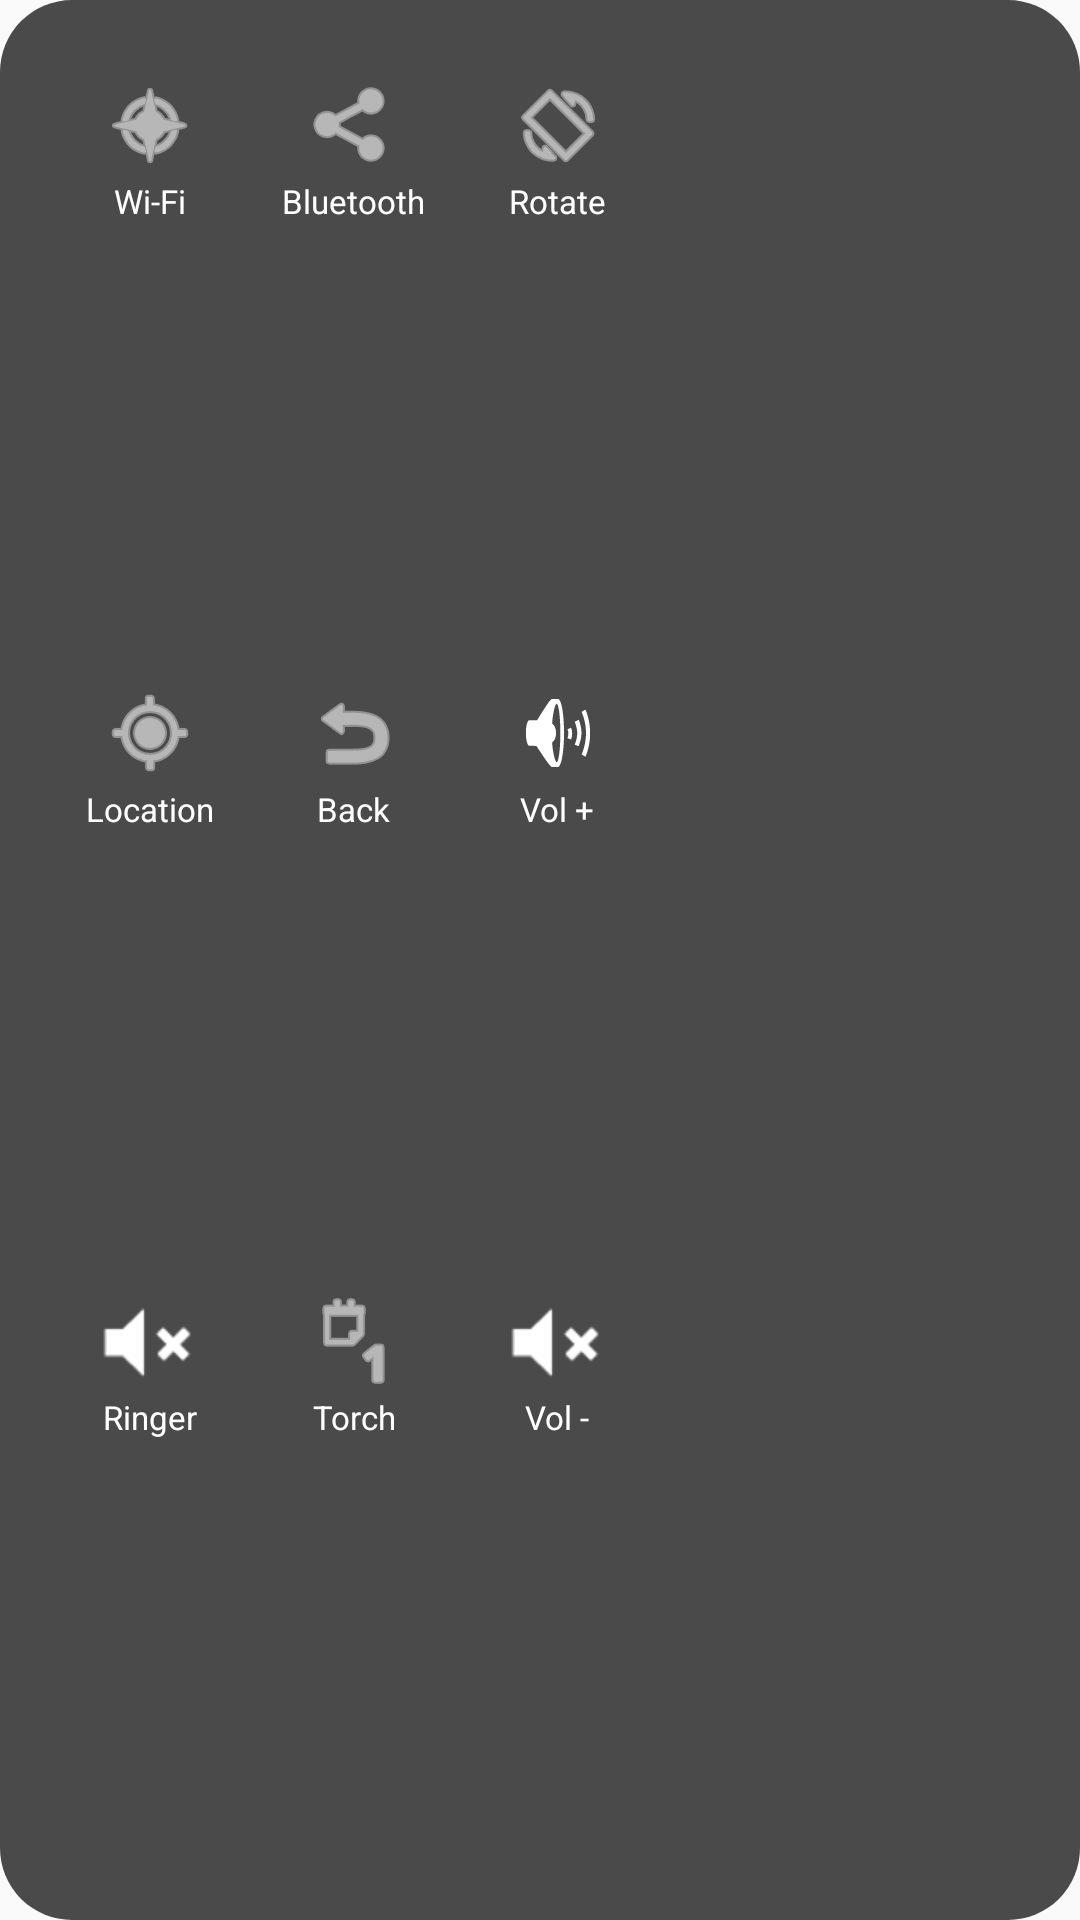

Point at icon controls on the screen. Image size 1080×1920, points as (x,y).
always landscape portrait: (558,125)
compass: (149,125)
day: (353,1341)
lock silent mode: (147,1342), (555,1342)
lock silent mode off: (558,733)
revert: (355,733)
share: (349,124)
